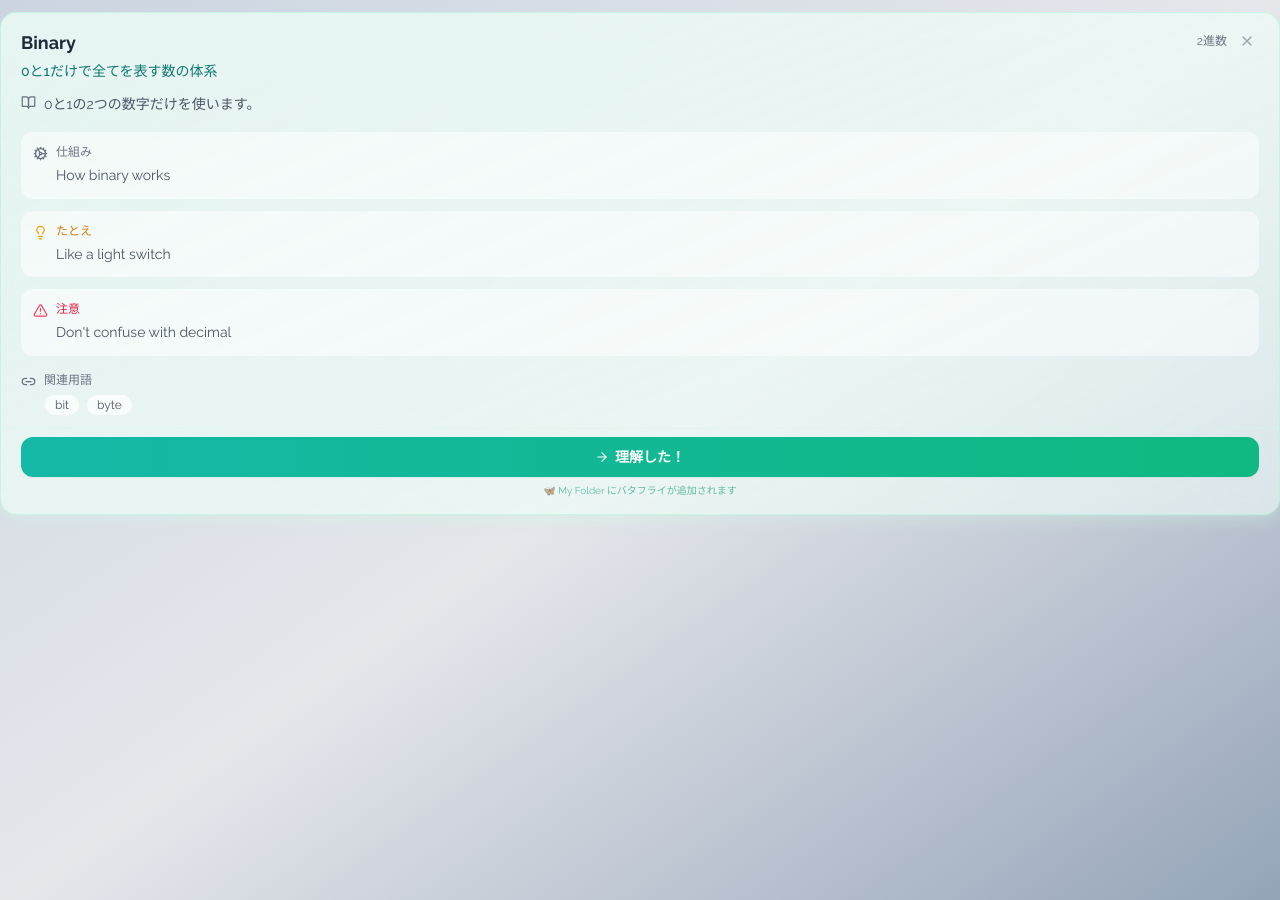
Test: InlineTermCard › shows loading state when saving
Click to confirm first
Click the button "理解した！". click: x=640, y=457
box: [21,437,1259,477]
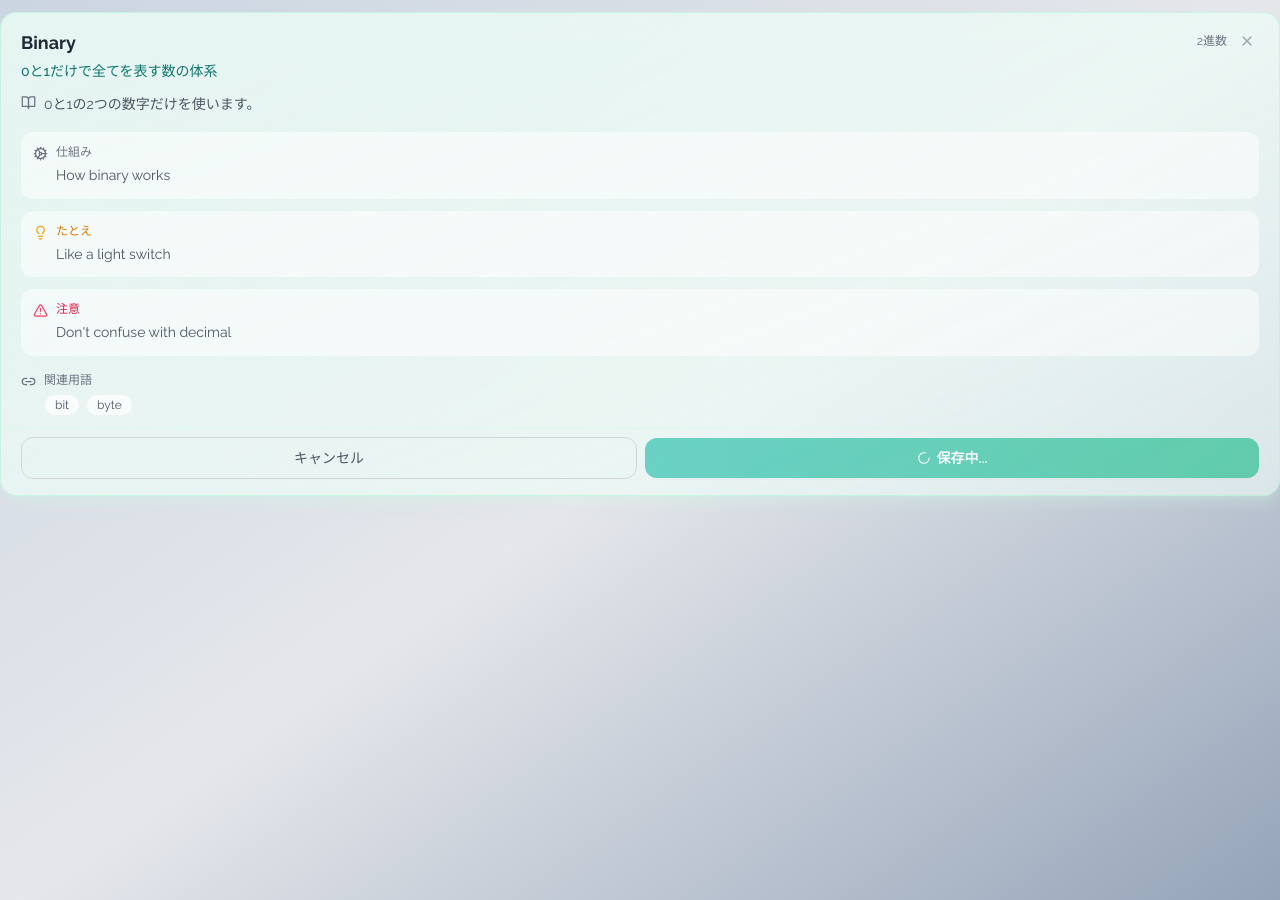
expect the button "保存中..." is shown: met, box [645,438,1259,478]
